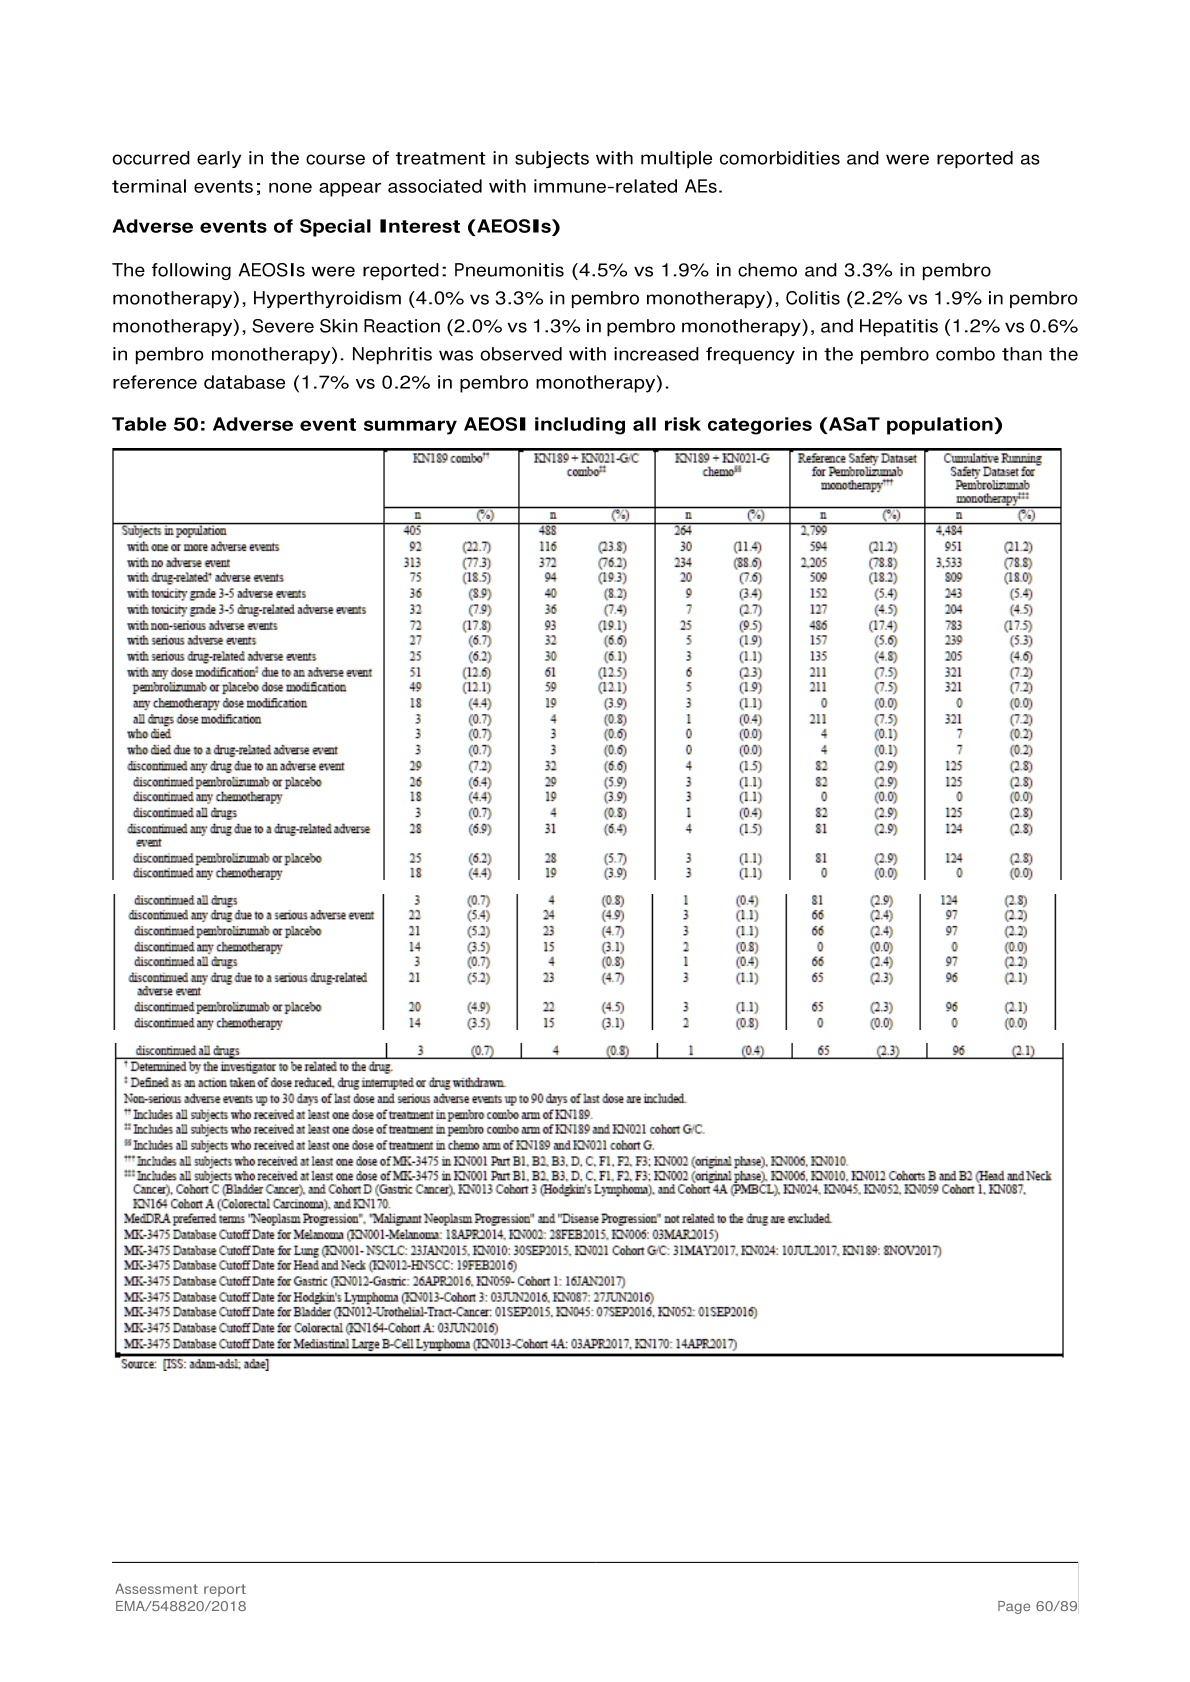partial_lined_merged_cells: (111, 444, 1066, 1357)
